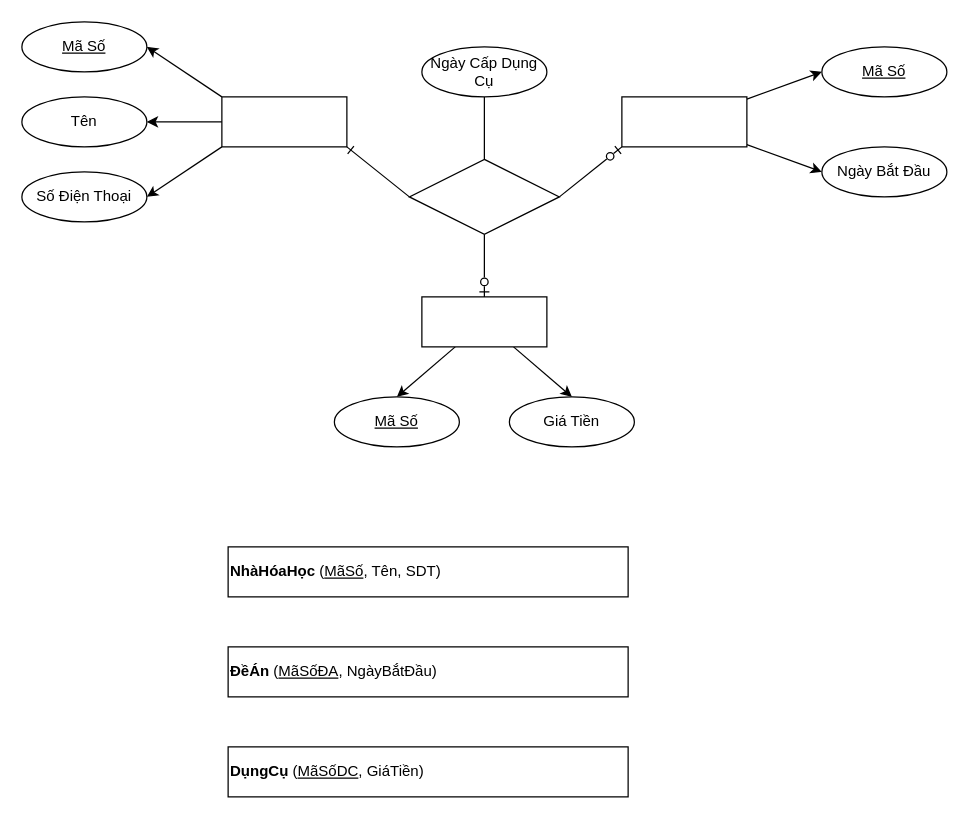
Image size: 969x819. Some labels were removed from this diagram. The shapes that lost their labels are listed below. From the top down, each one's centre as x and y in pixels, then its label:
At (284,121): "Nhà Hóa Học".
At (684,121): "Đề Án".
At (483,196): "sử dụng / làm".
At (484,321): "Dụng Cụ".
